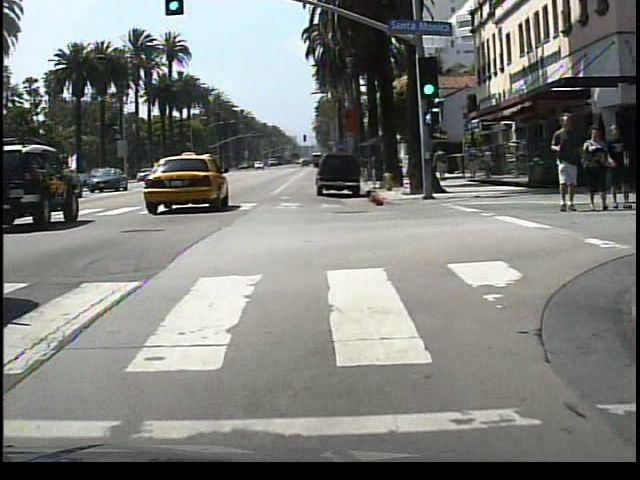person: (548, 107, 581, 221), (579, 124, 610, 214), (601, 123, 628, 211), (432, 145, 454, 186)
